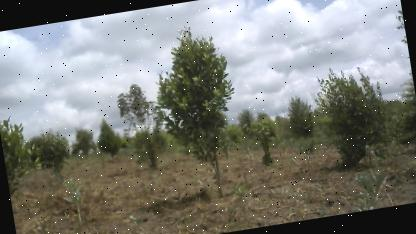tree: (141, 14, 251, 210), (306, 58, 403, 176)
